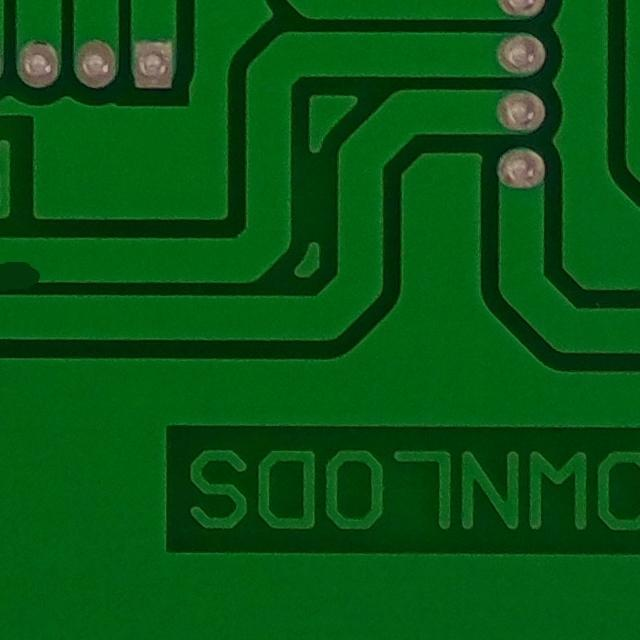mouse_bite: (0, 241, 53, 308)
